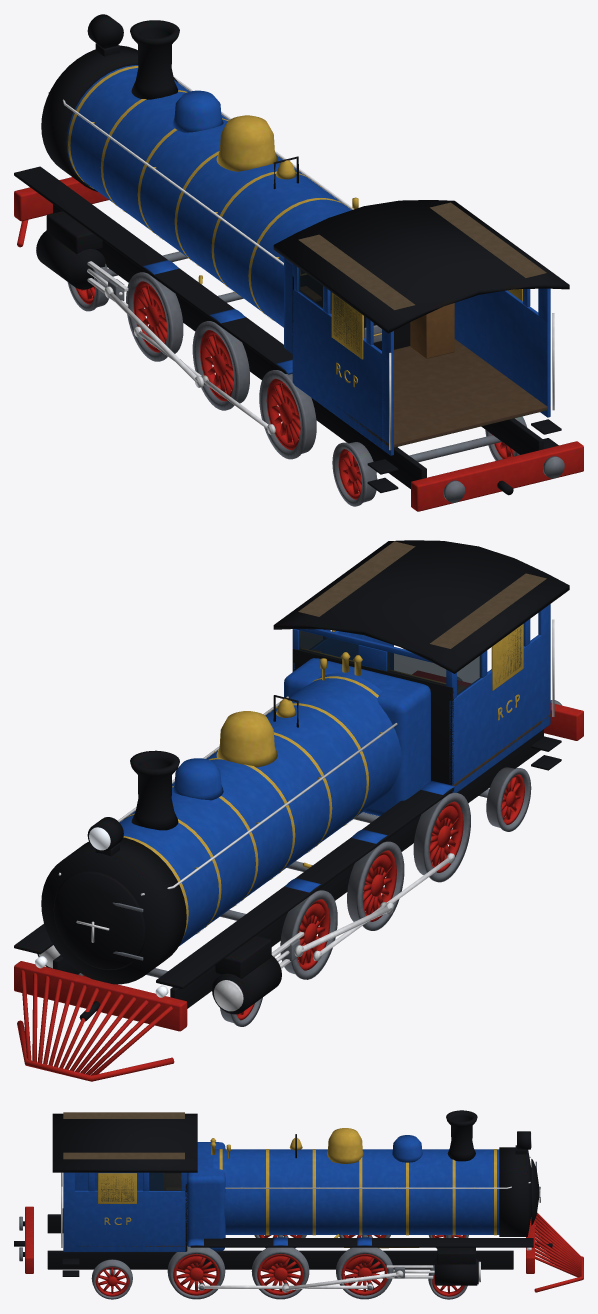
The model's file is Train.glb.
3 renders of one model, top to bottom at view 1: azimuth 30°, elevation 25°; view 2: azimuth 150°, elevation 25°; view 3: azimuth 270°, elevation 25°, orthographic. The views are drawn at different scales.
Visible parts, largest first — view 1: Train_Body, Train_Trim, Train_Trim2, Train_Interior, Train_Glass; view 2: Train_Body, Train_Trim, Train_Trim2, Train_Interior, Train_Glass; view 3: Train_Body, Train_Trim, Train_Trim2, Train_Interior, Train_Glass.
Boxes of the visible parts, x1,y1,x2,y2 form: Train_Body: (14,45,583,511); Train_Trim: (67,14,564,506); Train_Trim2: (48,43,561,495); Train_Interior: (298,202,546,358); Train_Glass: (298,268,359,352); Train_Body: (14,540,583,1081); Train_Trim: (39,677,561,1026); Train_Trim2: (58,619,561,1021); Train_Interior: (298,541,546,693); Train_Glass: (299,628,521,695); Train_Body: (25,1113,583,1292); Train_Trim: (19,1110,539,1299); Train_Trim2: (14,1134,552,1292); Train_Interior: (63,1112,184,1190); Train_Glass: (101,1172,181,1201).
Size of the model in its own units: 12 by 13.58 by 44.04.
Materials: 6 (4 with a texture image).
